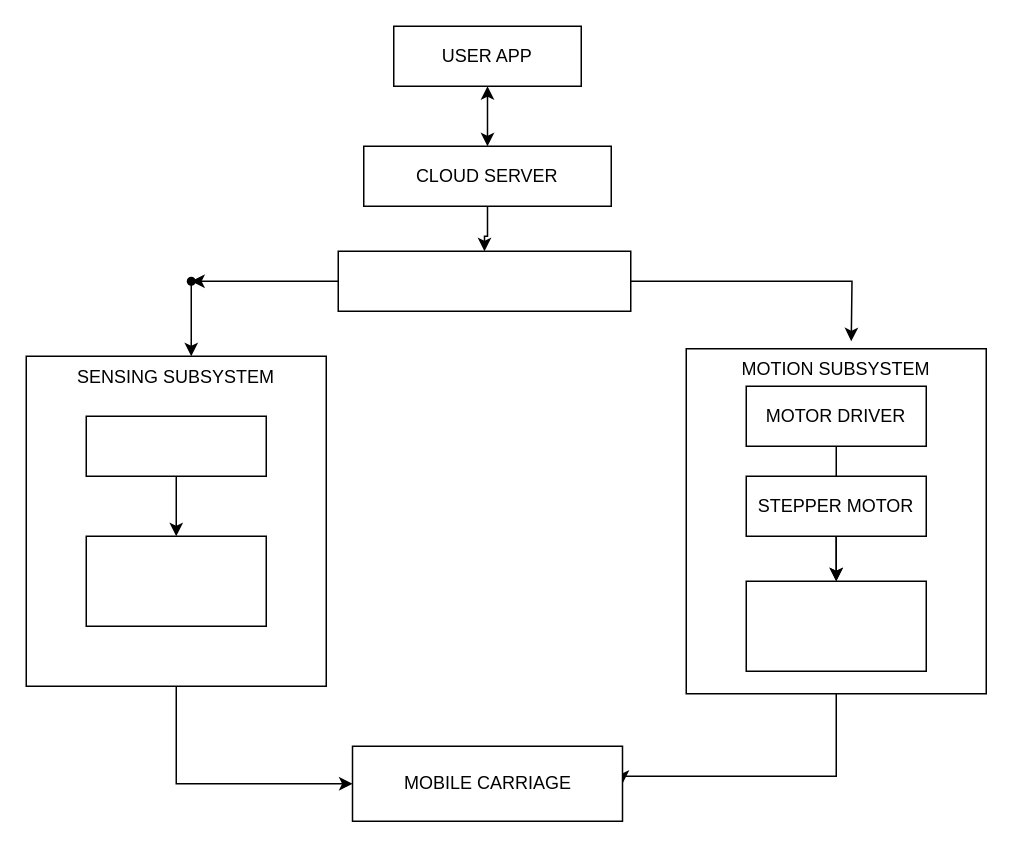
Image size: 1013x848. Some labels were removed from this diagram. Each missing label, with the box of its shape:
ENVIRONMENTAL SENSORS: (85, 535, 266, 626)
ESP32 CAM: (85, 415, 266, 476)
ESP32 MAIN CONTROLLER: (337, 250, 631, 311)
LINEAR RAIL SYSTEM: (745, 580, 926, 671)
